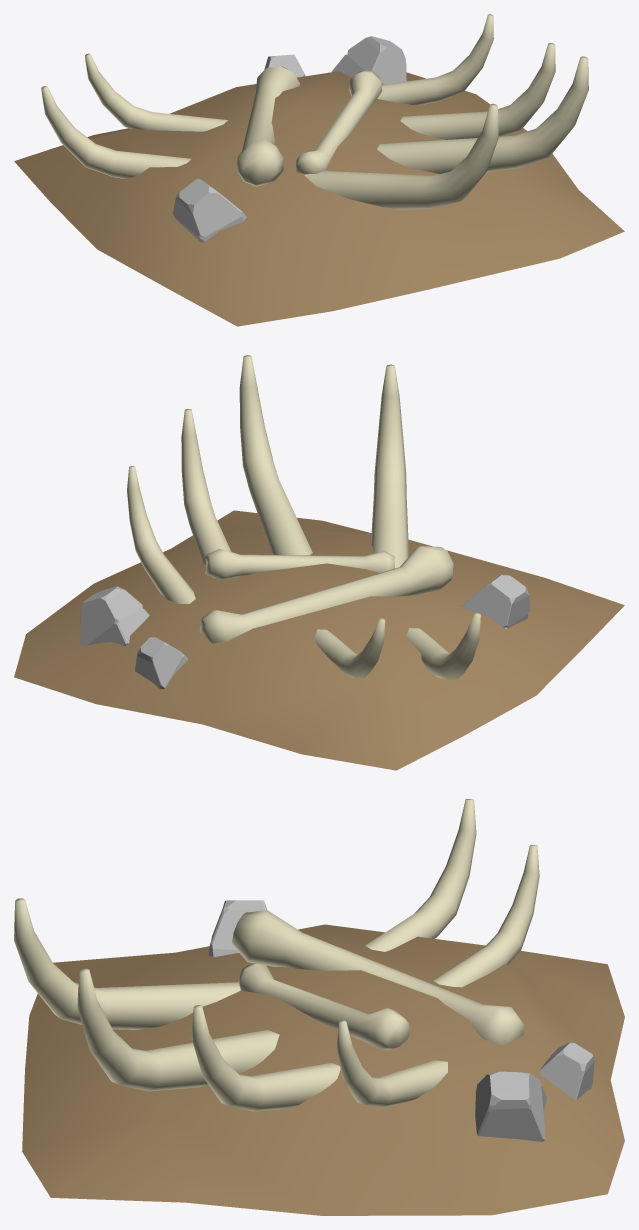
File: BonesBox_1.fbx
The picture shows the model from 3 angles, top to bottom: view 1: azimuth 30°, elevation 25°; view 2: azimuth 150°, elevation 25°; view 3: azimuth 270°, elevation 25°; orthographic projection. The views are drawn at different scales.
Visible parts, largest first — view 1: bones; view 2: bones; view 3: bones.
Boxes of the visible parts, x1,y1,x2,y2 form: bones: (14, 14, 624, 326); bones: (14, 355, 624, 770); bones: (14, 799, 624, 1215).
Bounding box in the file's own units: 428 × 157 × 411.
